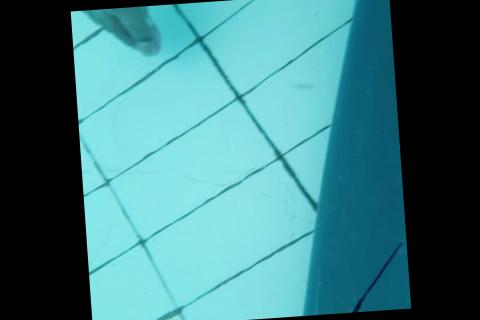keretakan: (313, 241, 407, 315)
